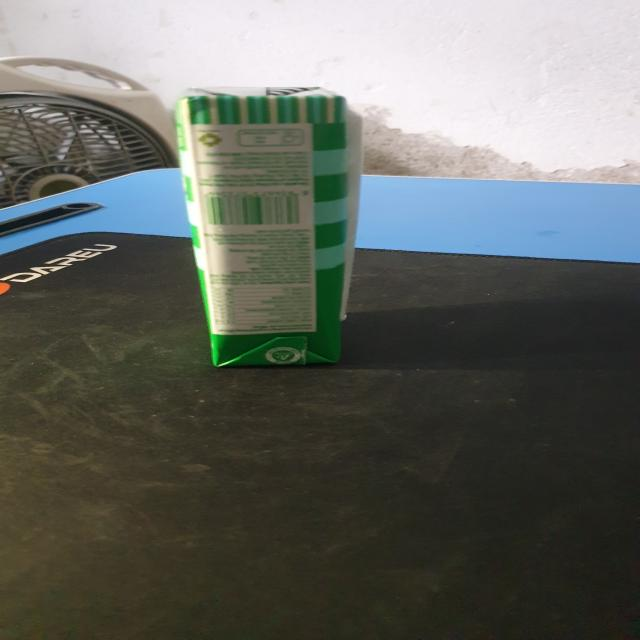Vina: (173, 91, 368, 371)
